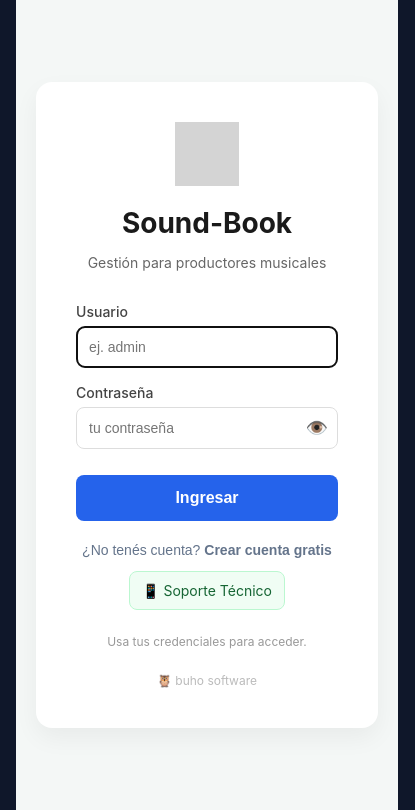
Login › shows error when submitting with empty fields
Click the button "Ingresar".
click(207, 498)  # box [76,475,338,521]
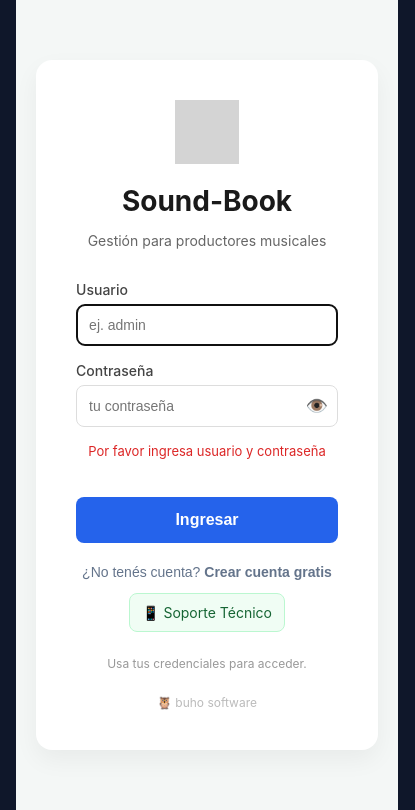
Result: the text "Por favor ingresa usuario y contraseña" is shown at [76,443,338,459]
